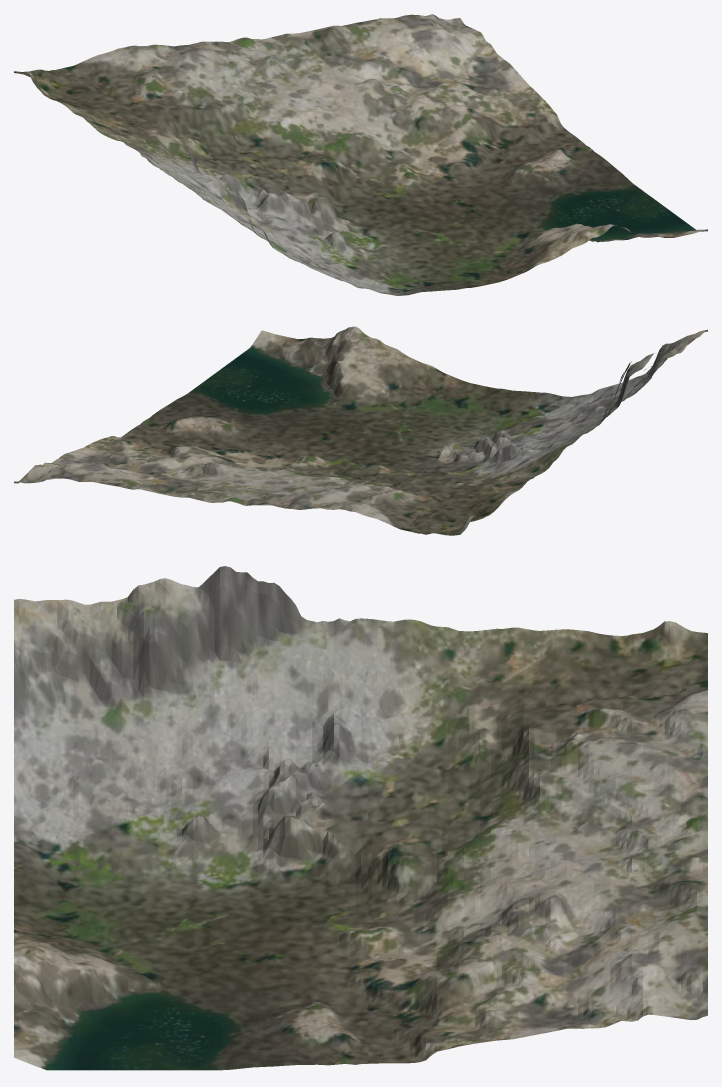
3 views of the same model, one above another, from view 1: azimuth 30°, elevation 25°; view 2: azimuth 150°, elevation 25°; view 3: azimuth 270°, elevation 25° (orthographic). The views are drawn at different scales.
Bounding box in the file's own units: 250 × 77.37 × 241.
Materials: 1 (1 with a texture image).
